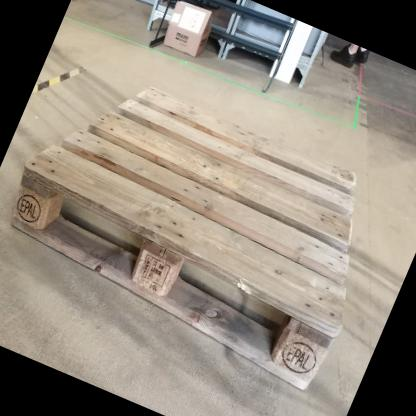BoxFace: (4, 77, 364, 399)
